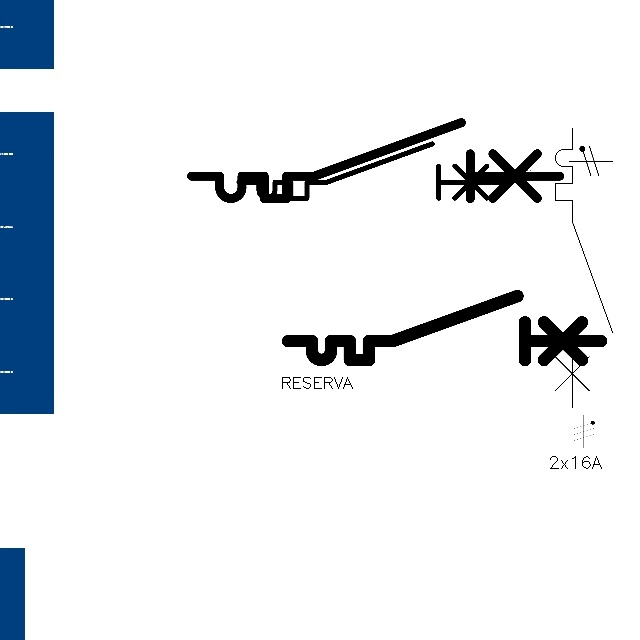interruptor_termomagnetico: (182, 113, 569, 208), (280, 288, 609, 368), (548, 121, 620, 415), (232, 137, 509, 205)
